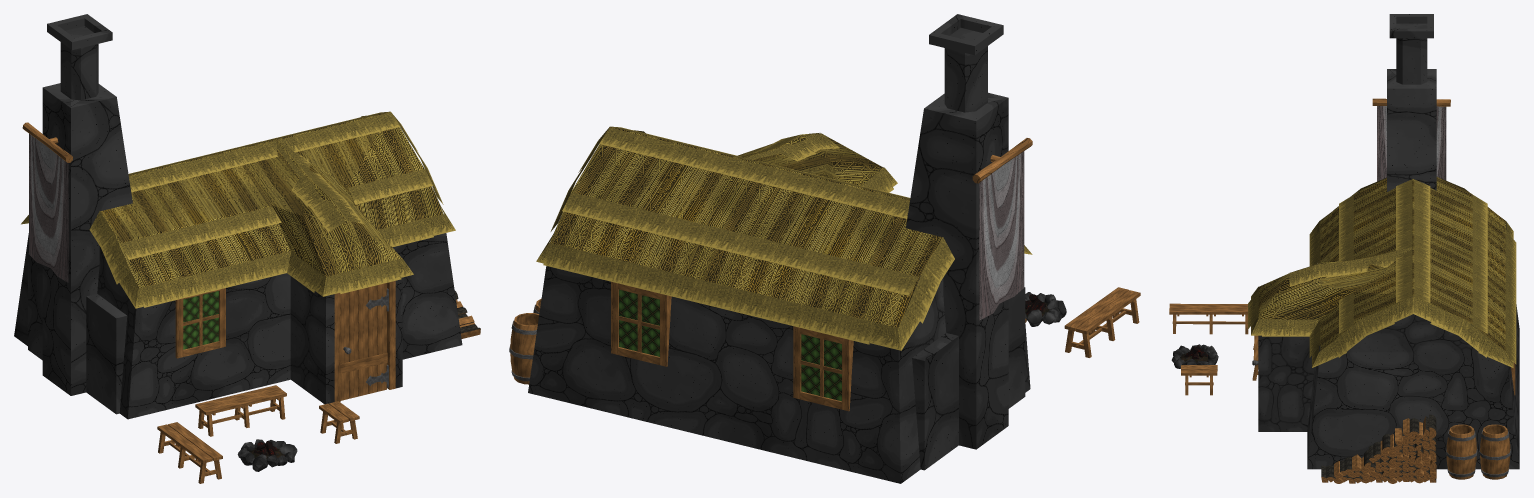
The model's file is house.glb.
The picture shows the model from 3 angles, left to right: view 1: azimuth 30°, elevation 25°; view 2: azimuth 150°, elevation 25°; view 3: azimuth 270°, elevation 25°; orthographic projection. The views are drawn at different scales.
Parts seen in each view (by area): view 1: Building_Scot_House; view 2: Building_Scot_House; view 3: Building_Scot_House.
Part boxes in pixels (x1,y1,x2,y2): Building_Scot_House: [14, 14, 480, 483]; Building_Scot_House: [509, 14, 1140, 483]; Building_Scot_House: [1169, 14, 1519, 483].
Bounding box in the file's own units: 6.35 × 5.61 × 5.66.
Materials: 12 (12 with a texture image).
